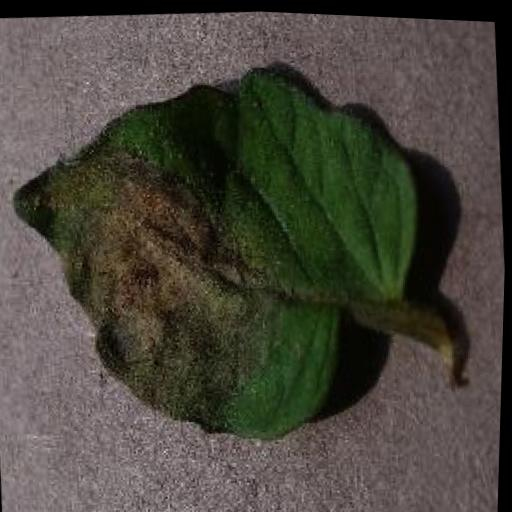Late Blight: (0, 44, 438, 461)
